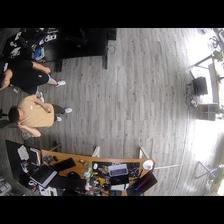normal: (8, 96, 74, 137), (2, 63, 69, 94)
